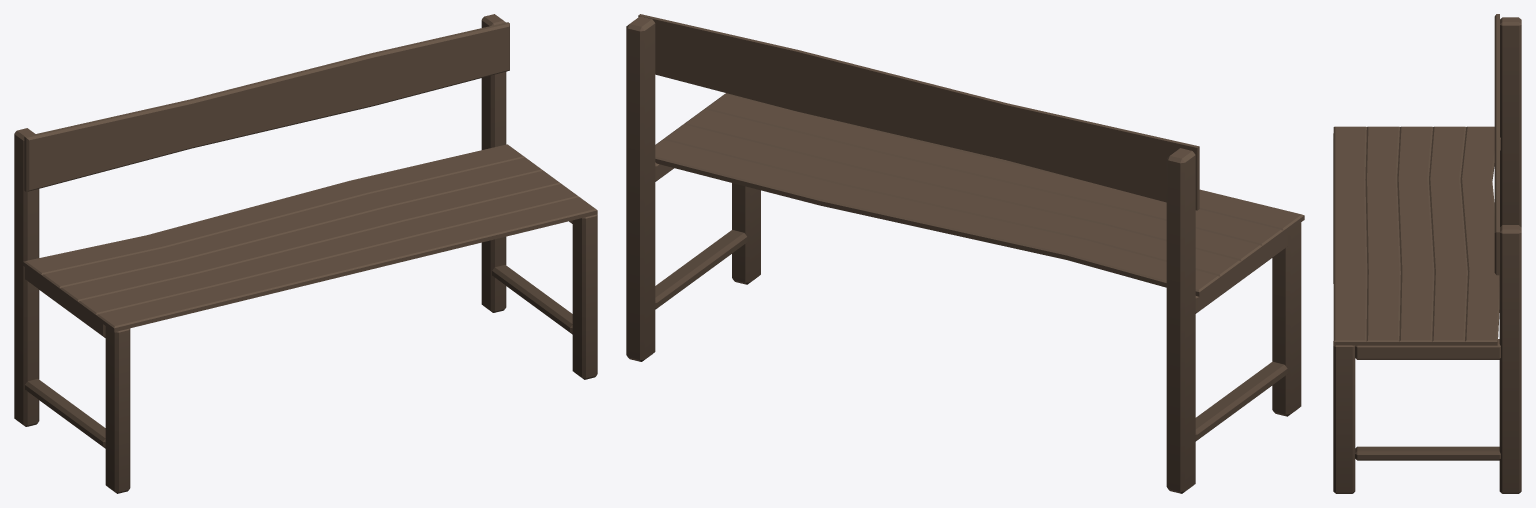
Rendered from city_bench_2.glb.
3 renders of one model, left to right at view 1: azimuth 30°, elevation 25°; view 2: azimuth 150°, elevation 25°; view 3: azimuth 270°, elevation 25°, orthographic. The views are drawn at different scales.
Parts seen in each view (by area): view 1: city_bench_2; view 2: city_bench_2; view 3: city_bench_2.
Part boxes in pixels (<box>): city_bench_2: <box>14,14,597,493</box>; city_bench_2: <box>626,14,1304,493</box>; city_bench_2: <box>1333,14,1521,493</box>.
Bounding box in the file's own units: 1.38 × 0.7921 × 0.5083.
Materials: 1 (1 with a texture image).
